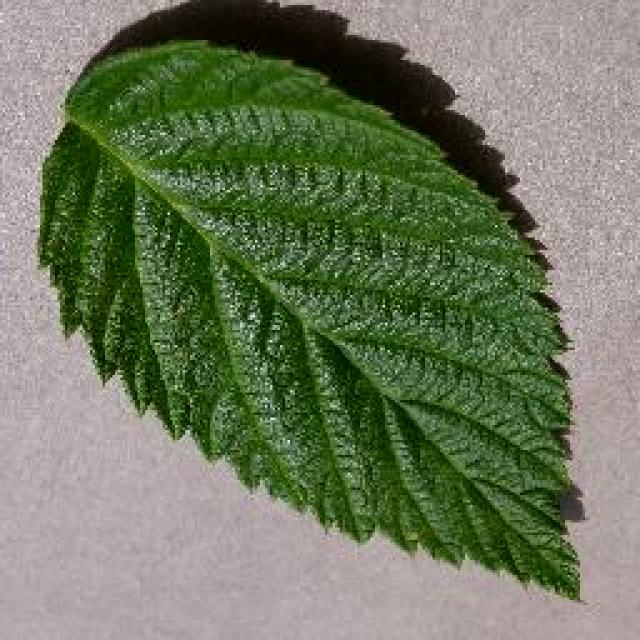healthy: (42, 42, 578, 598)
